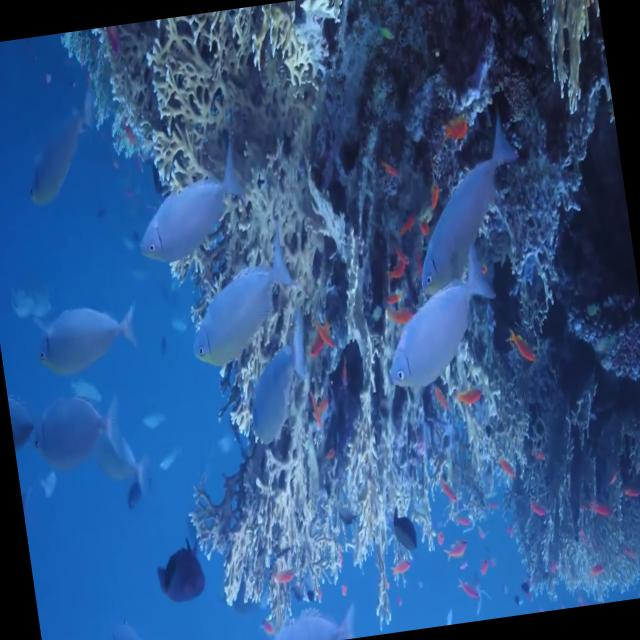fish: (399, 121, 532, 292), (178, 225, 306, 368), (374, 258, 502, 392), (126, 148, 252, 266), (235, 309, 319, 448), (18, 88, 112, 207), (29, 296, 140, 378), (26, 386, 124, 474), (156, 540, 210, 604)
